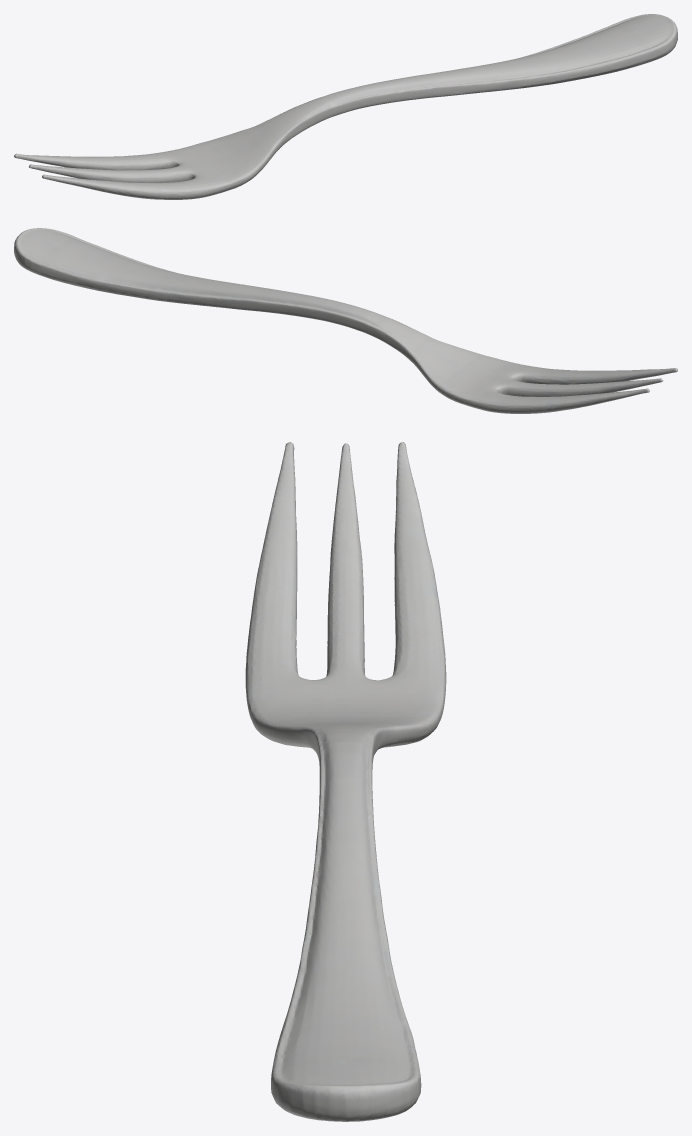
Rendered from dinner fork 3d model.glb.
3 views of the same model, one above another, from view 1: azimuth 30°, elevation 25°; view 2: azimuth 150°, elevation 25°; view 3: azimuth 270°, elevation 25° (orthographic). The views are drawn at different scales.
Visible parts, largest first — view 1: tripo_node_a24d97cb-4247-4ddc-947b-be1838b68253; view 2: tripo_node_a24d97cb-4247-4ddc-947b-be1838b68253; view 3: tripo_node_a24d97cb-4247-4ddc-947b-be1838b68253.
Boxes of the visible parts, x1,y1,x2,y2 form: tripo_node_a24d97cb-4247-4ddc-947b-be1838b68253: (14,14,677,199); tripo_node_a24d97cb-4247-4ddc-947b-be1838b68253: (14,228,677,413); tripo_node_a24d97cb-4247-4ddc-947b-be1838b68253: (245,442,446,1121).
Size of the model in its own units: 0.9993 by 0.0819 by 0.1347.
1 material, 1 textured.
